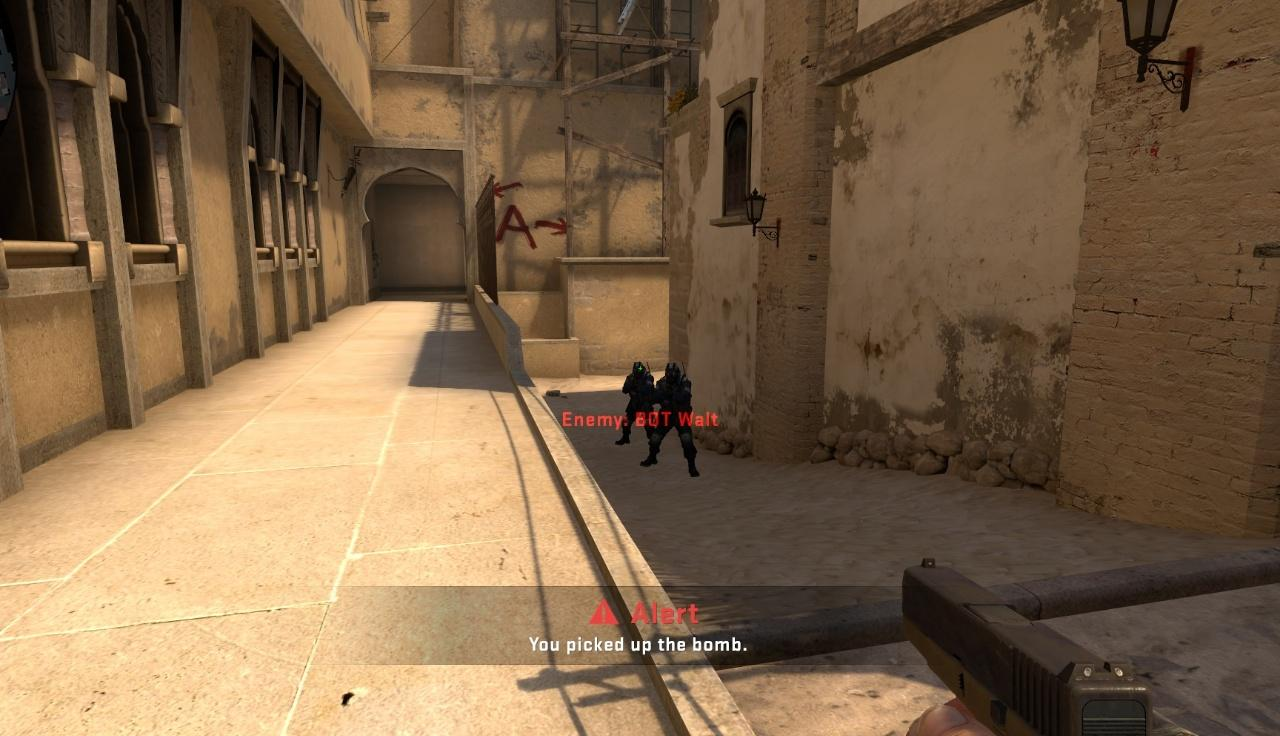ct: (645, 363, 701, 476), (616, 362, 656, 444)
cthead: (664, 363, 682, 382), (631, 362, 645, 374)
pistol: (894, 553, 1185, 736)
